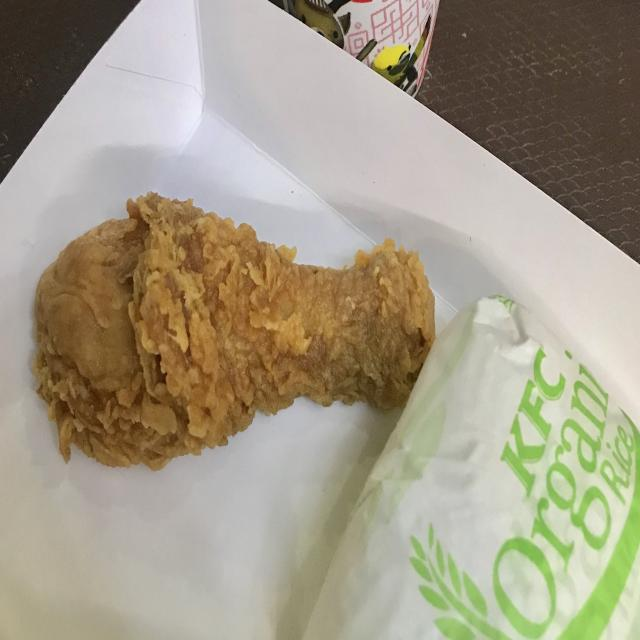Frango: (35, 157, 446, 469)
